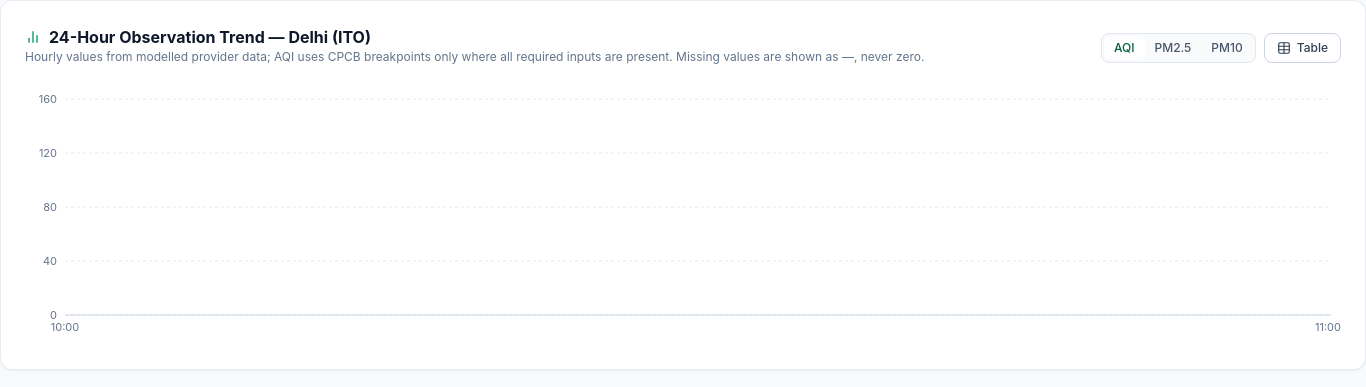
Test case: HistoricalTrendChart Component › toggles accessible table view on button click
Click the button with aria-label "Show accessible data table view" at {"x": 1302, "y": 48}, box [1264,33,1341,63]
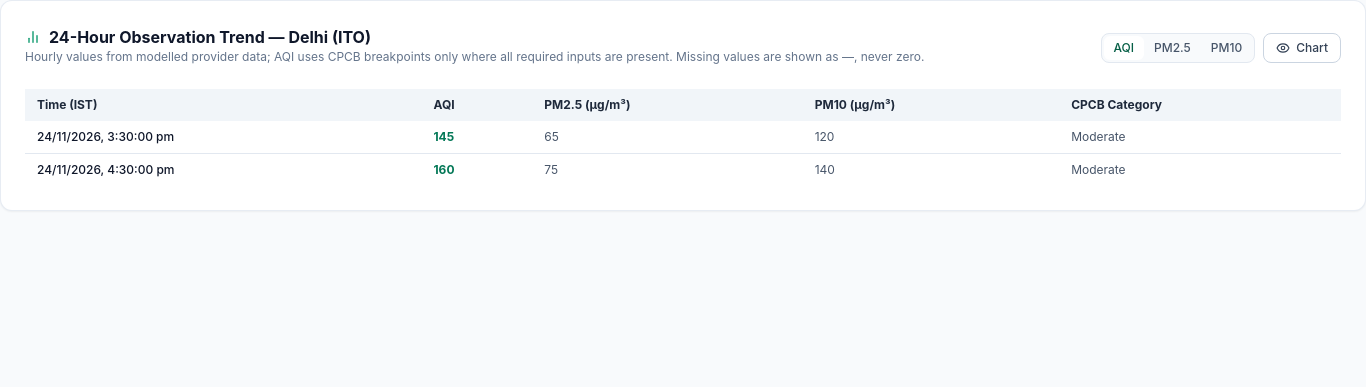
Check: the text "160" is shown, box [421,154,532,186]
Check: the table is shown, box [25,89,1341,186]
Check: the text "145" is shown, box [421,121,532,154]
